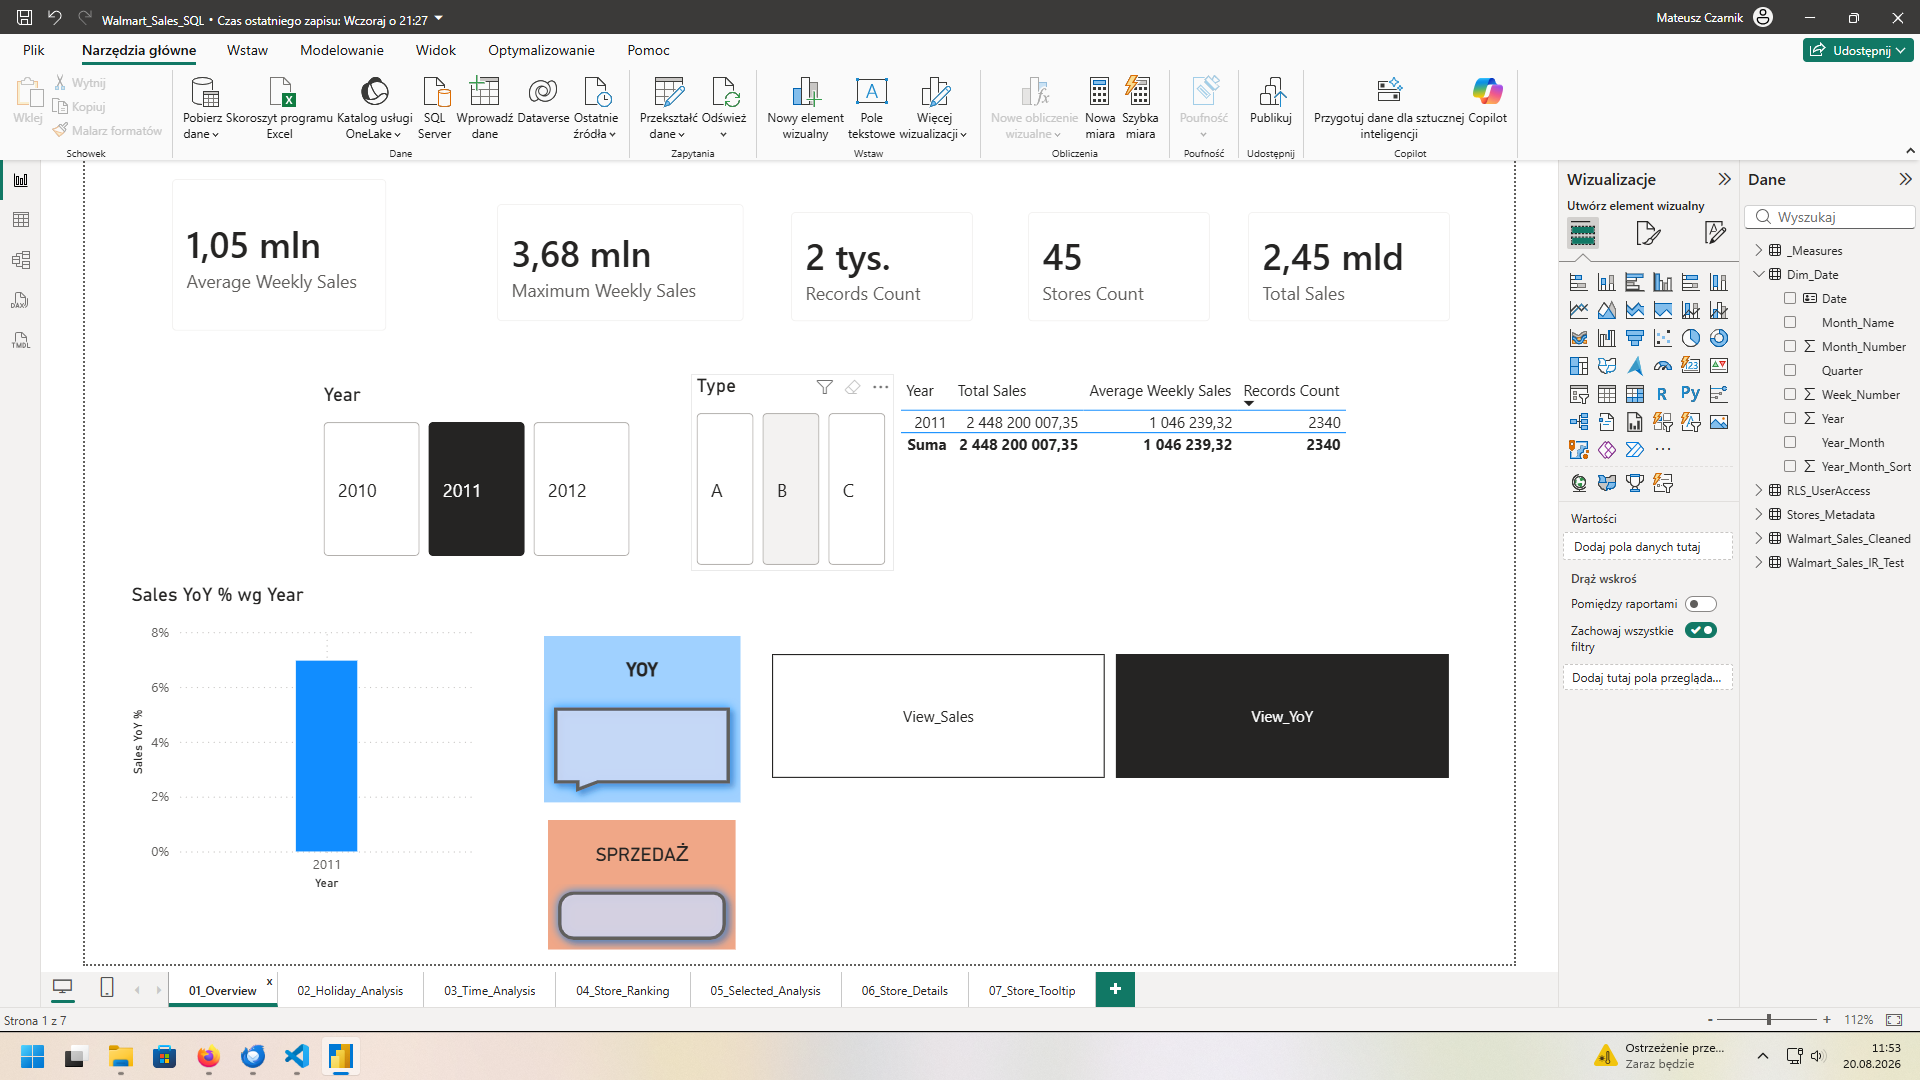

The page's visual inventory and layout, read from the dashboard file:
{"tool":"powerbi","page":{"name":"01_Overview","canvas":[1280,720],"ordinal":0},"visuals":[{"type":"cardVisual","title":"Records Count","fields":{"Data":["_Measures.Records Count"]},"box":[615.2,29.6,197,132.5],"z":0},{"type":"cardVisual","title":"Total Sales","fields":{"Data":["_Measures.Total Sales"]},"box":[1024.5,29.6,215.6,132.2],"z":1000},{"type":"actionButton","title":"SPRZEDAŻ","box":[414.6,591,168.4,116.4],"z":2000},{"type":"actionButton","title":"YOY","box":[411,426.3,175.5,148.7],"z":3000},{"type":"bookmarkNavigator","box":[615.2,442.4,606.3,111],"z":4000},{"type":"tableEx","fields":{"Values":["Dim_Date.Year","_Measures.Total Sales","_Measures.Average Weekly Sales","_Measures.Records Count"]},"box":[724.5,191.6,515.8,168.4],"z":5000},{"type":"columnChart","fields":{"Category":["Dim_Date.Year"],"Y":["_Measures.Sales YoY %"]},"box":[36.7,378.8,315.2,279.4],"z":6000},{"type":"cardVisual","title":"Stores Count","fields":{"Data":["_Measures.Stores Count"]},"box":[827.5,29.6,197,132.5],"z":7000},{"type":"cardVisual","title":"Maximum Weekly Sales","fields":{"Data":["_Measures.Maximum Weekly Sales"]},"box":[351.9,22.4,255.2,139.7],"z":8000},{"type":"cardVisual","title":"Average Weekly Sales","fields":{"Data":["_Measures.Average Weekly Sales"]},"box":[60.9,0,226.6,170.1],"z":9000},{"type":"advancedSlicerVisual","fields":{"Values":["Stores_Metadata.Type"]},"box":[542.3,191.6,181.8,176.4],"z":11000},{"type":"advancedSlicerVisual","fields":{"Values":["Dim_Date.Year"]},"box":[208.7,199.7,286.6,160.3],"z":12000}]}

Visuals, with their boxes on the page's 1280x720 design canvas (x1, y1, x2, y2). These are canvas units, not pixel positions in the 1920x1080 screenshot, which may show the page scaled, cropped or inside an application window:
"Records Count" cardVisual: 615, 30, 812, 162
"Total Sales" cardVisual: 1024, 30, 1240, 162
"SPRZEDAŻ" actionButton: 415, 591, 583, 707
"YOY" actionButton: 411, 426, 586, 575
bookmarkNavigator: 615, 442, 1222, 553
tableEx - Dim_Date.Year x _Measures.Total Sales: 724, 192, 1240, 360
columnChart - Dim_Date.Year x _Measures.Sales YoY %: 37, 379, 352, 658
"Stores Count" cardVisual: 828, 30, 1024, 162
"Maximum Weekly Sales" cardVisual: 352, 22, 607, 162
"Average Weekly Sales" cardVisual: 61, 0, 288, 170
advancedSlicerVisual - Stores_Metadata.Type: 542, 192, 724, 368
advancedSlicerVisual - Dim_Date.Year: 209, 200, 495, 360
